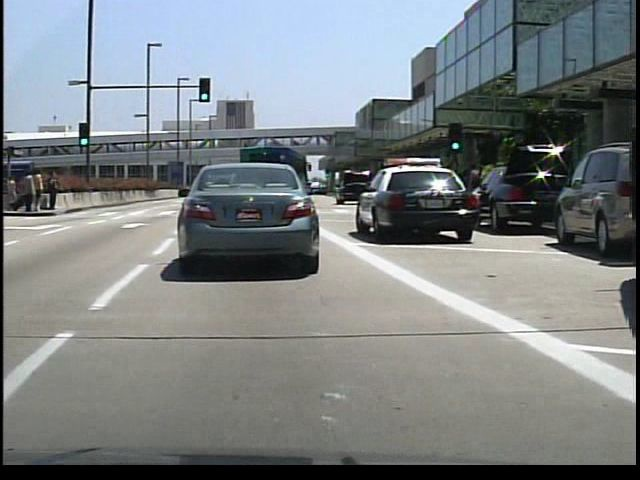person: (20, 169, 36, 214), (44, 169, 59, 212), (32, 166, 44, 214)
